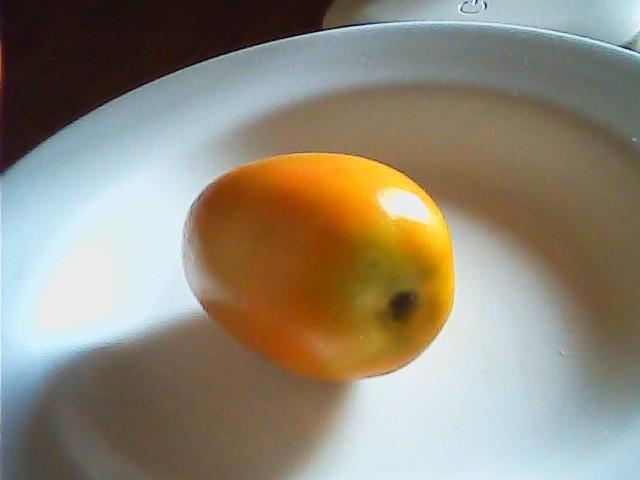verde: (180, 152, 455, 385)
